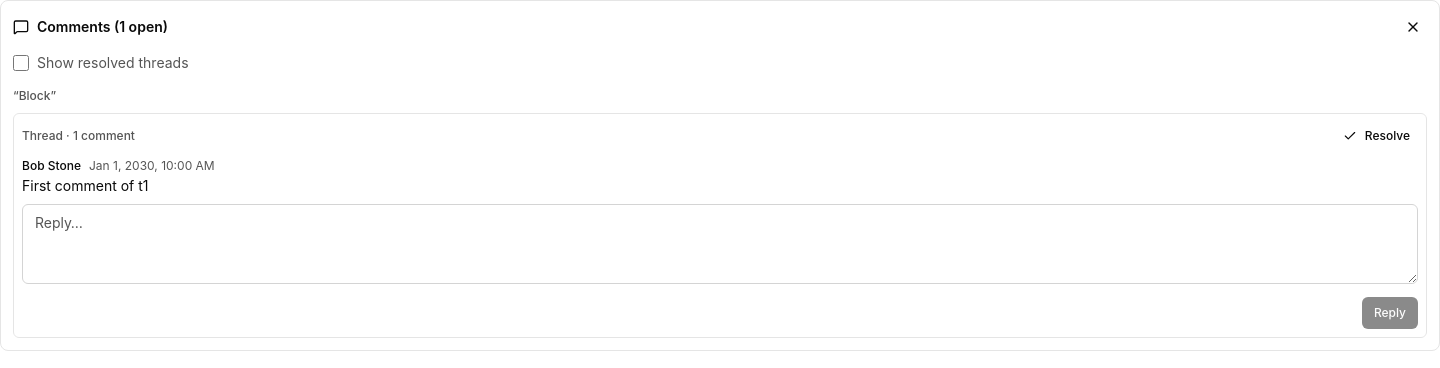
Test: CommentsPanel › resolves a thread
This screenshot has width=1440, height=368.
Click the button "Resolve" at (1376, 136), box [1335,122,1418,150]
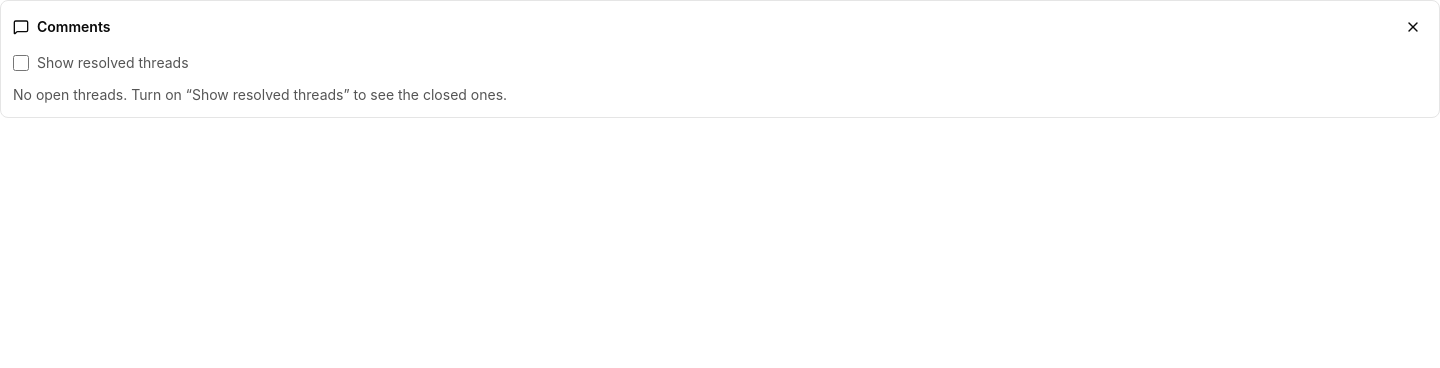
Now the list item with test id "comment-thread" is gone
